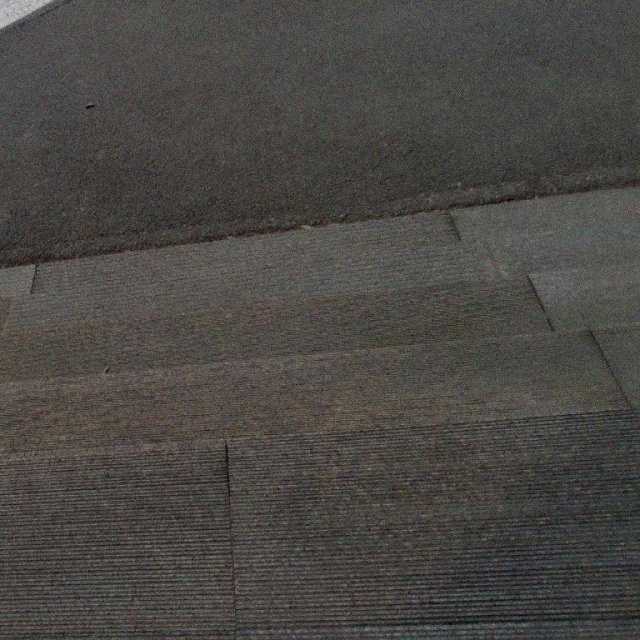stair: (0, 166, 634, 583)
